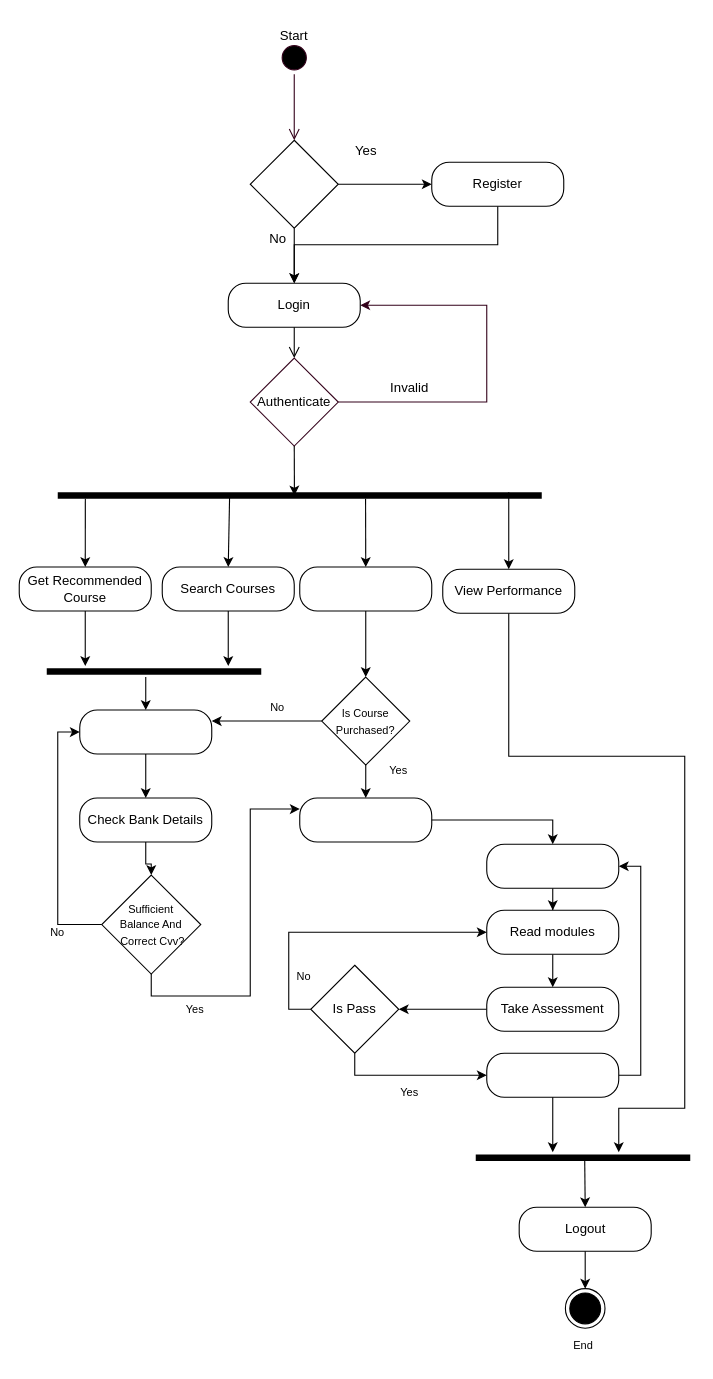
The diagram is 713 pixels wide and 1379 high, and some of its shapes have lost their labels. Here are the shapes that lost their labels. From the top down, the centre of each, then its label:
the point at 293,183: Is New User?
the point at 365,588: Select Course
the point at 145,731: Buy Course
the point at 365,819: Learning
the point at 552,865: Recommend Module
the point at 552,1074: Next Module
